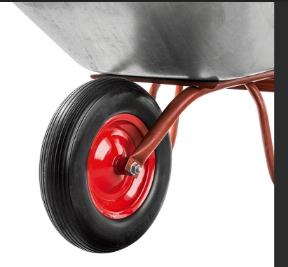BROUETTE: (0, 2, 288, 267)
